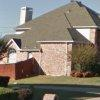Chimney: (14, 4, 36, 29)
